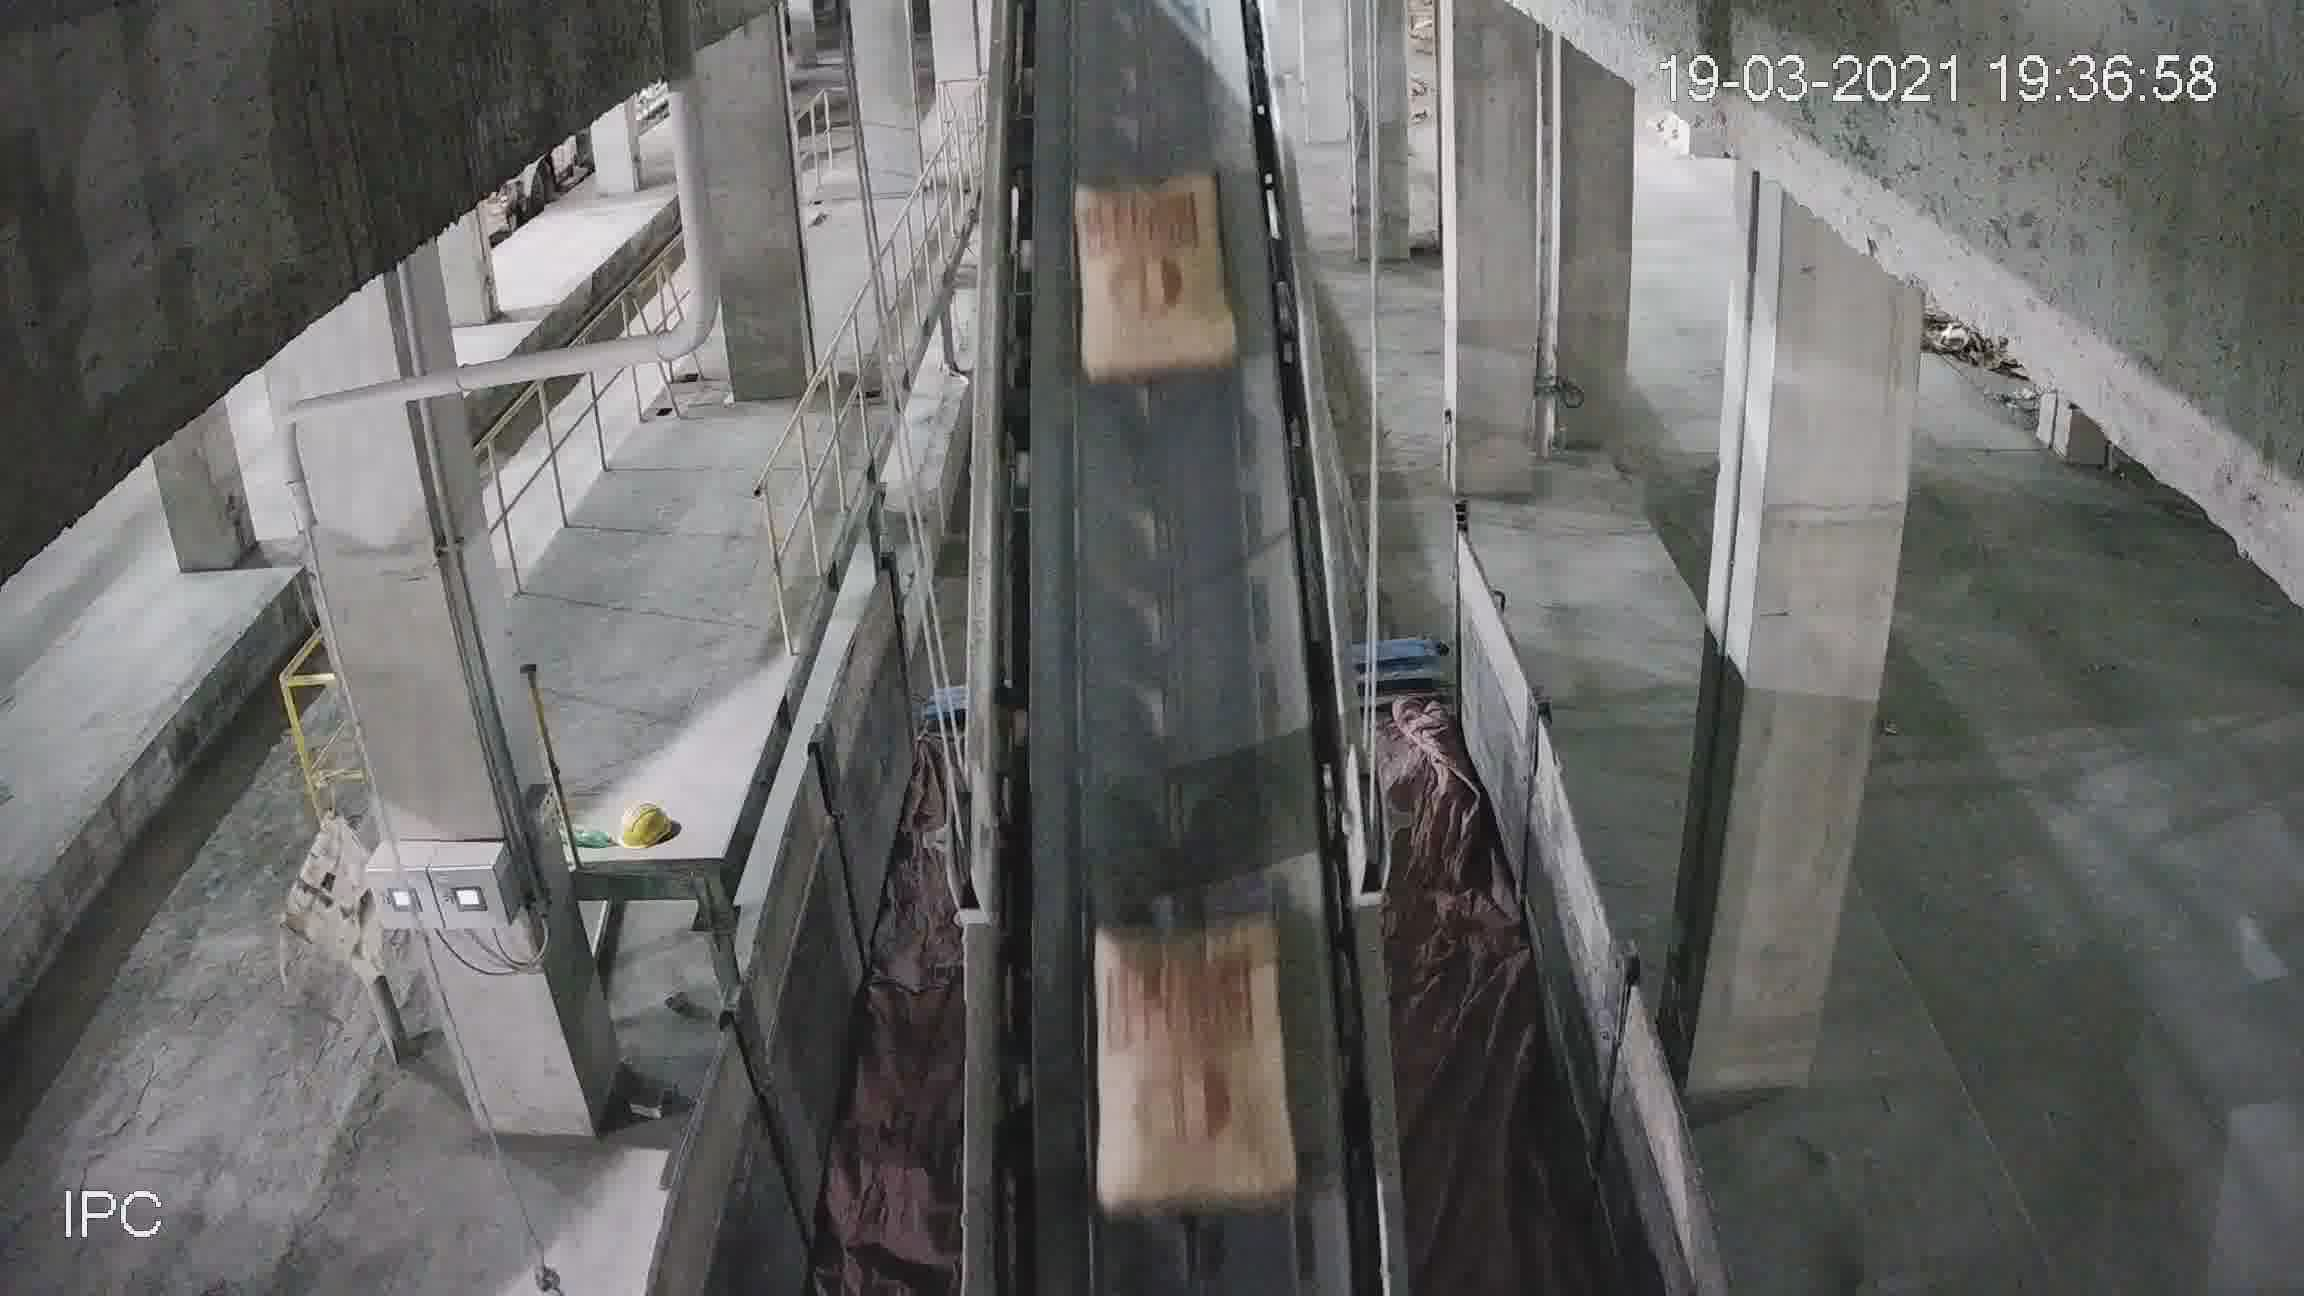bag: (1097, 915, 1290, 1154), (1071, 163, 1226, 375)
belt: (967, 16, 1381, 1100)
